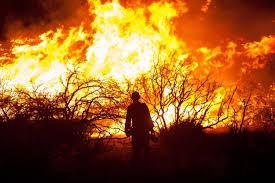fire: (0, 0, 265, 137)
